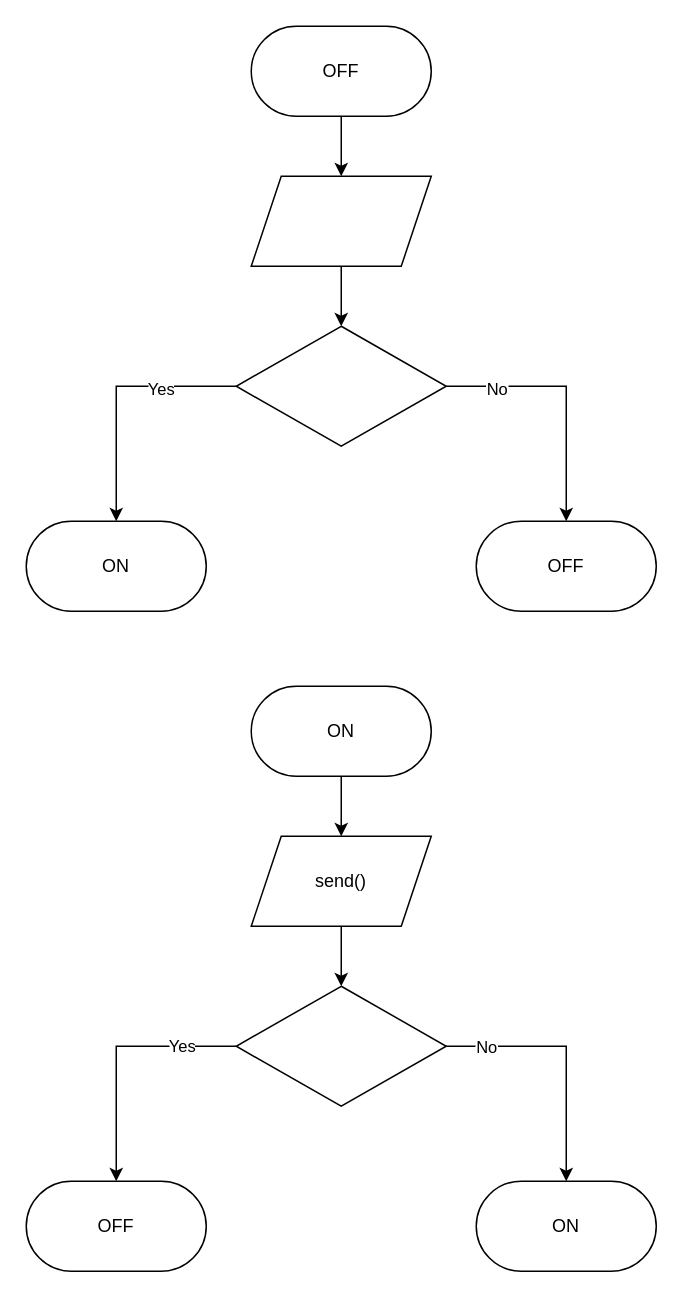
Image size: 683x1298. Some labels were removed from this diagram. Here are the shapes that lost their labels. From the top down, the centre of each, then its label:
the point at 340,220: idle()
the point at 340,385: OFF_end?
the point at 340,1045: ON_end?
